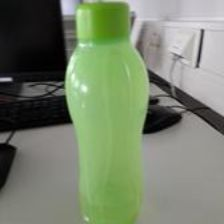bottle: (61, 1, 151, 224)
